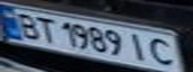1: (54, 19, 75, 47)
8: (87, 25, 106, 54)
9: (103, 27, 127, 58), (69, 21, 90, 51)
B: (9, 10, 42, 40)
C: (145, 35, 184, 69)
I: (124, 30, 151, 63)
T: (30, 15, 60, 44)
